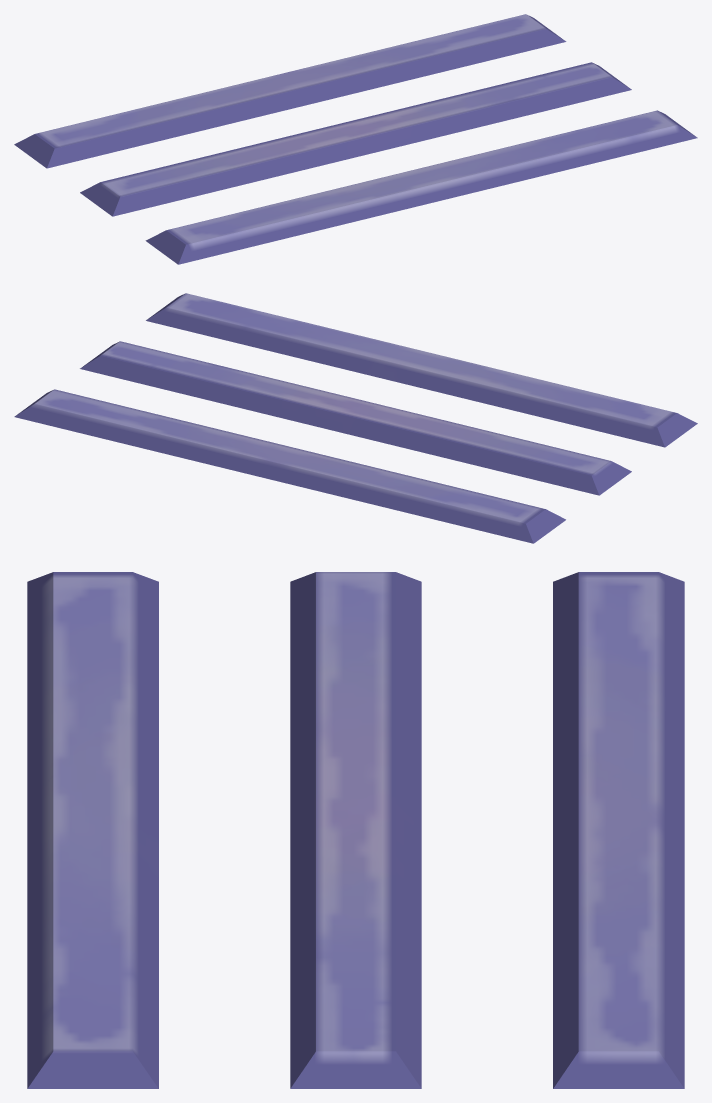
File: bande_guidage_droit.fbx
The picture shows the model from 3 angles, top to bottom: view 1: azimuth 30°, elevation 25°; view 2: azimuth 150°, elevation 25°; view 3: azimuth 270°, elevation 25°; orthographic projection. The views are drawn at different scales.
Parts seen in each view (by area): view 1: bande_guidage_droit; view 2: bande_guidage_droit; view 3: bande_guidage_droit.
Part boxes in pixels (bbox=[...]): bande_guidage_droit: bbox=[14, 14, 697, 264]; bande_guidage_droit: bbox=[14, 293, 697, 543]; bande_guidage_droit: bbox=[27, 572, 684, 1088].
Bounding box in the file's own units: 81.53 × 1.77 × 44.64.
